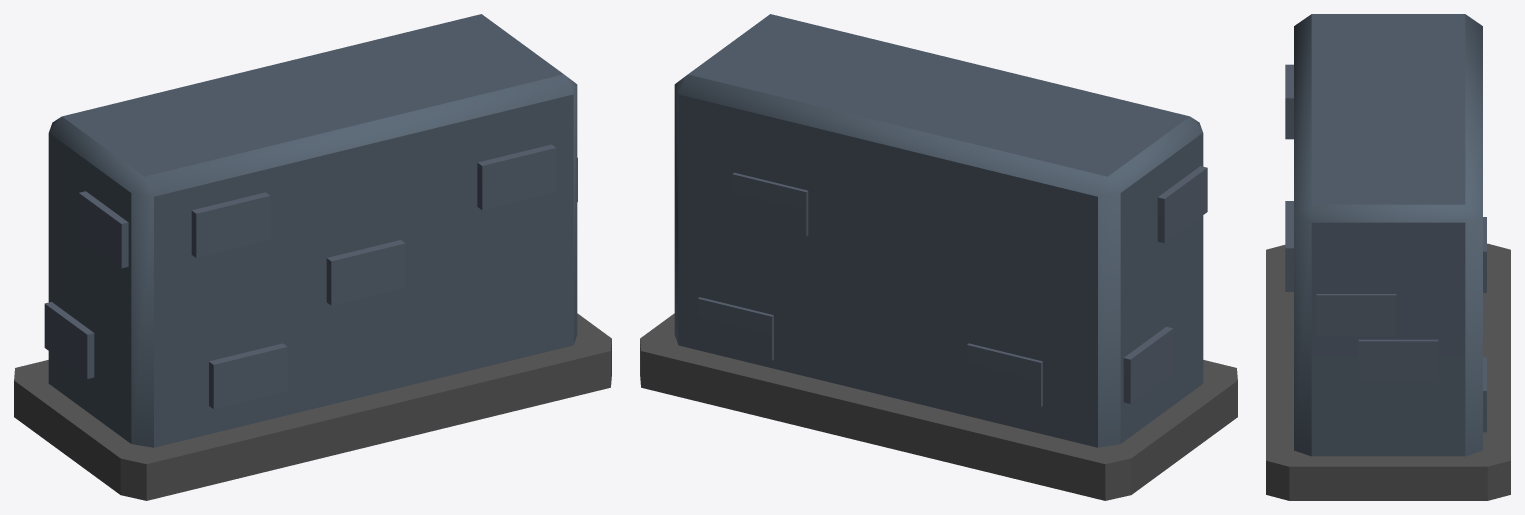
Rendered from ChimneyWall_2_C.fbx.
3 renders of one model, left to right at view 1: azimuth 30°, elevation 25°; view 2: azimuth 150°, elevation 25°; view 3: azimuth 270°, elevation 25°, orthographic. The views are drawn at different scales.
Visible parts, largest first — view 1: ChimneyWall_2_C; view 2: ChimneyWall_2_C; view 3: ChimneyWall_2_C.
Part boxes in pixels (box(x1,y1,x2,y2)): ChimneyWall_2_C: box(14, 14, 611, 500); ChimneyWall_2_C: box(640, 14, 1237, 500); ChimneyWall_2_C: box(1266, 14, 1510, 500).
Size of the model in its own units: 244 by 143 by 113.
